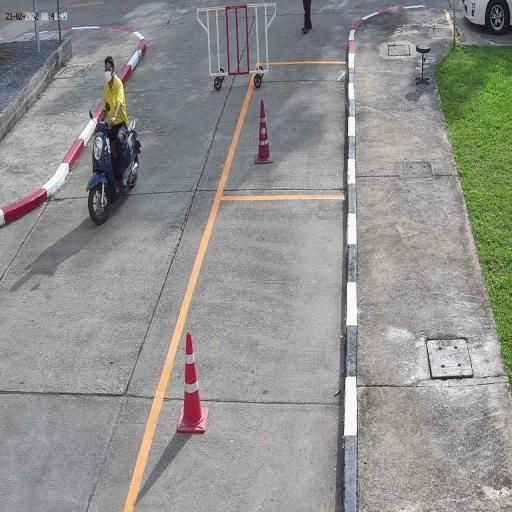motorcycle: (86, 115, 143, 228)
